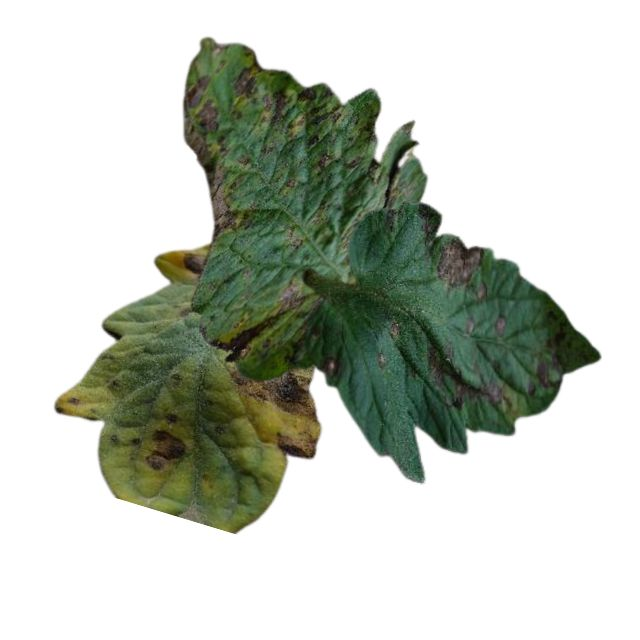Early_blight: (184, 76, 239, 242), (209, 282, 309, 362), (428, 342, 512, 413), (231, 366, 318, 425), (261, 85, 344, 146), (438, 238, 488, 304), (133, 428, 187, 469), (277, 426, 320, 458), (526, 352, 554, 396), (237, 60, 262, 98), (182, 253, 209, 276), (493, 312, 510, 338), (323, 356, 339, 380), (314, 152, 331, 170), (162, 410, 180, 426)
